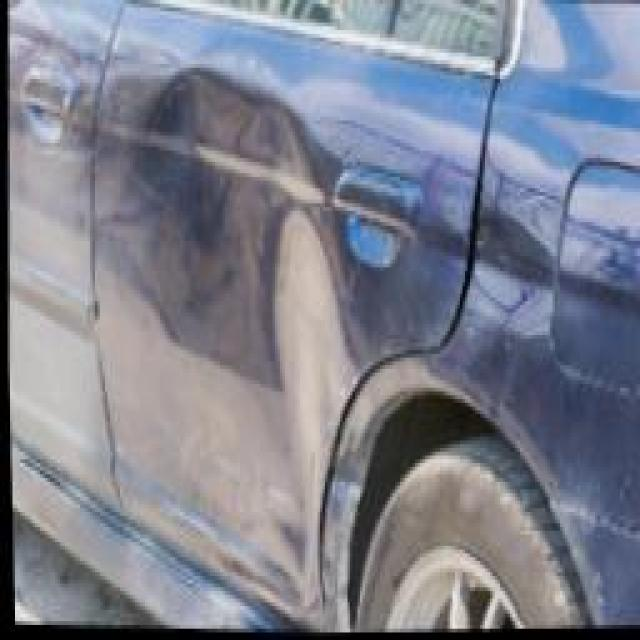Door: (12, 11, 454, 505)
